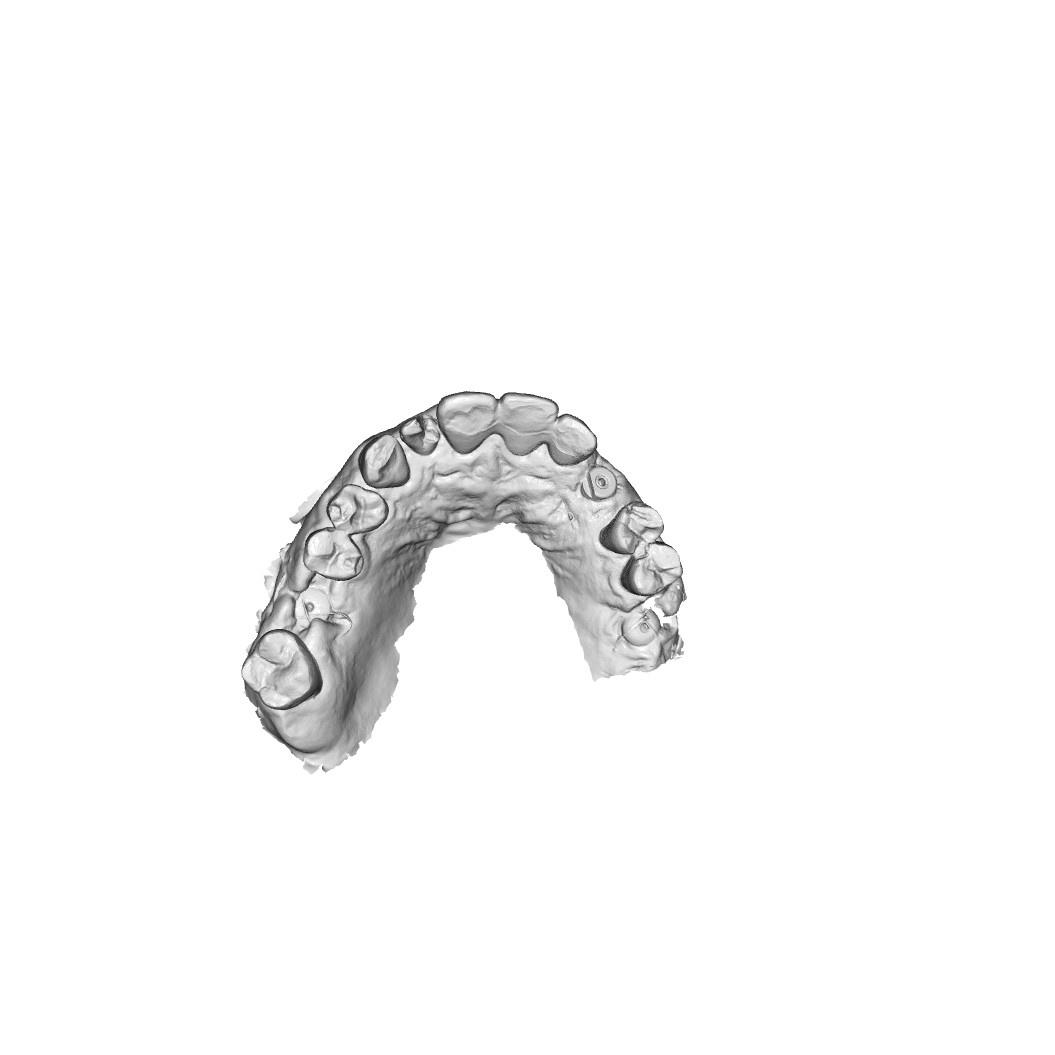canine: (357, 434, 411, 490)
implant: (292, 586, 331, 627), (623, 604, 660, 646), (584, 464, 619, 504)
incisor: (492, 390, 557, 456), (437, 389, 496, 454), (548, 414, 600, 469)
molar: (238, 627, 324, 712)
premolar: (602, 497, 667, 558), (619, 545, 685, 599), (302, 531, 363, 581), (328, 483, 388, 531)
